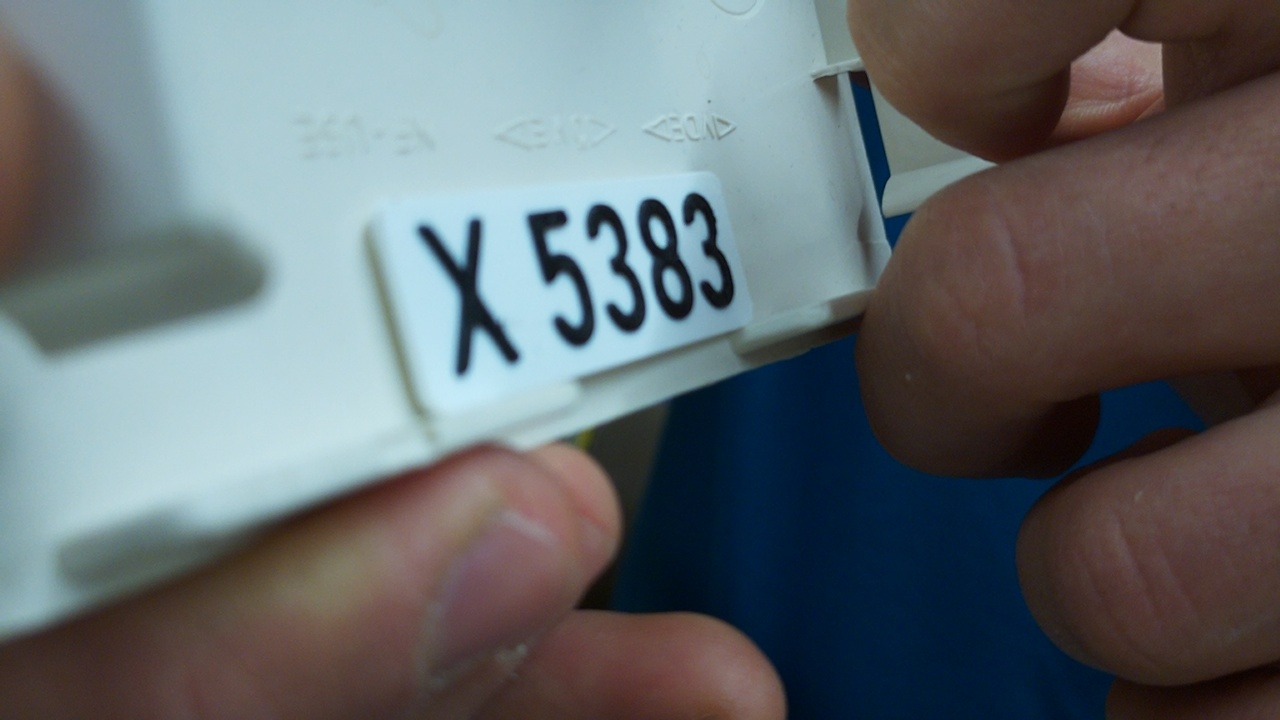license_plate: (361, 168, 756, 419)
